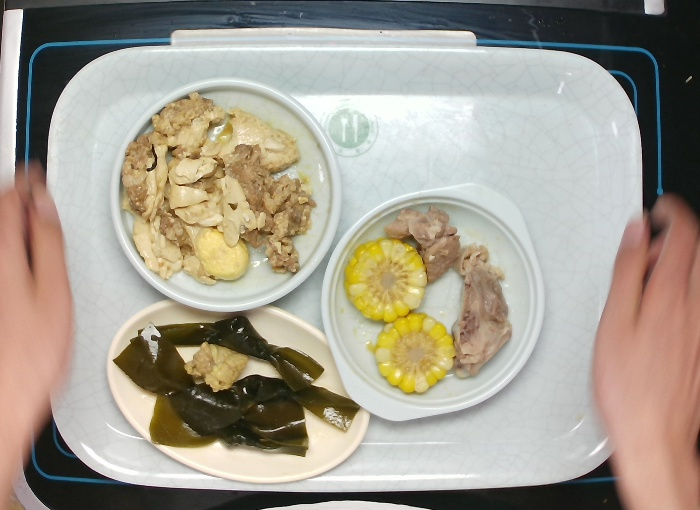JYsf-Shuang_Er_Pan: (318, 177, 549, 429)
JYsf-Tuo_Yuan_Wan: (99, 298, 372, 489)
JYsf-Xiao_Yuan_Pan: (109, 74, 345, 312)
